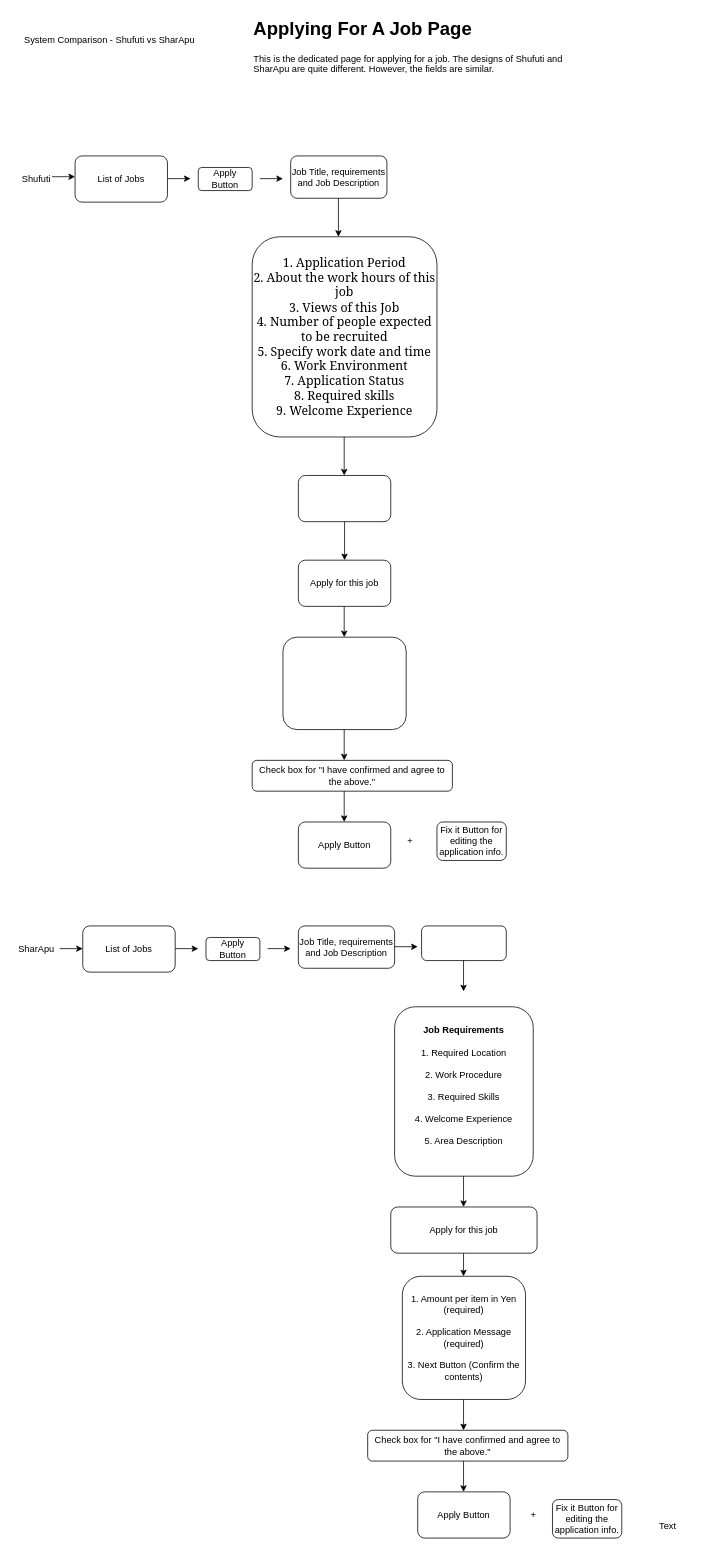
Some shapes in this 704 by 1552 pixel diagram are drawn without their labels. The centre of each missing label's shape, as x and y in pixels:
"1. Amount per item in Yen 2. Message 3. Next Button (Confirm the contents)" goes at (344,683).
"Job Title" goes at (463,943).
"Some more Description" goes at (344,498).
